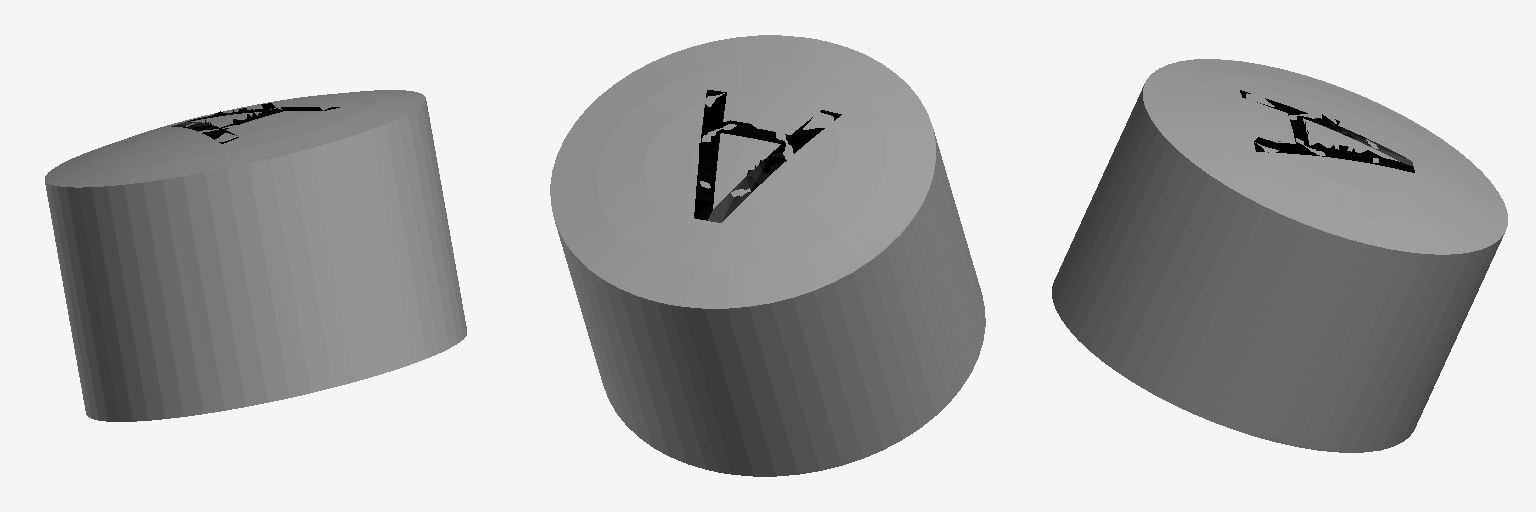
3 views of the same model, side by side, from view 1: azimuth 30°, elevation 25°; view 2: azimuth 150°, elevation 25°; view 3: azimuth 270°, elevation 25° (orthographic).
Visible parts, largest first — view 1: button_a_r_body.002; view 2: button_a_r_body.002; view 3: button_a_r_body.002.
Boxes of the visible parts, x1,y1,x2,y2 form: button_a_r_body.002: [45, 90, 466, 421]; button_a_r_body.002: [550, 35, 985, 476]; button_a_r_body.002: [1052, 59, 1507, 452].
Size of the model in its own units: 0.008 by 0.0073 by 0.0093.
1 materials, 1 textured.